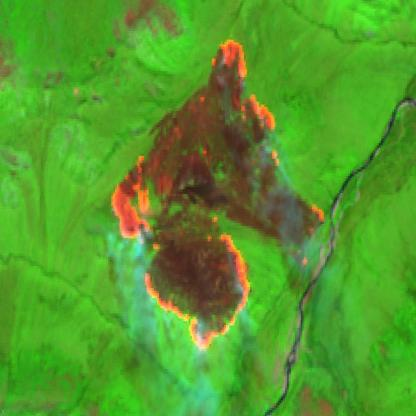fire: (108, 32, 329, 354)
